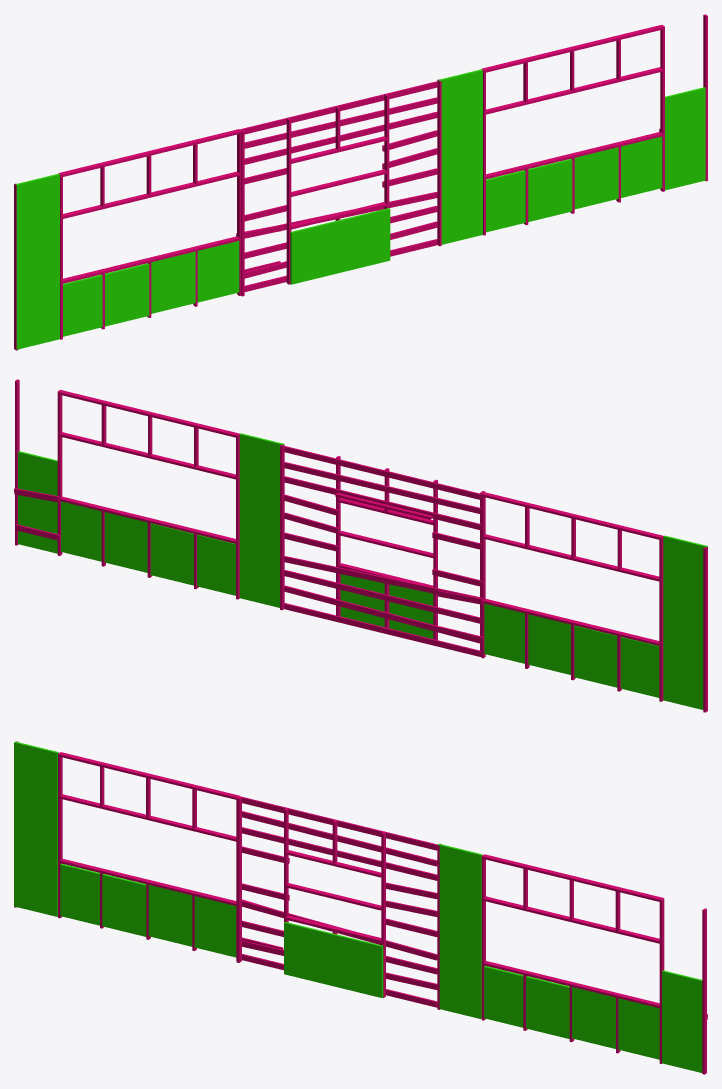
File: BH05B_Wall_06_Break_B.fbx
The picture shows the model from 3 angles, top to bottom: view 1: azimuth 30°, elevation 25°; view 2: azimuth 150°, elevation 25°; view 3: azimuth 330°, elevation 25°; orthographic projection.
Parts seen in each view (by area): view 1: BH05B_Wall_06_Break_B; view 2: BH05B_Wall_06_Break_B; view 3: BH05B_Wall_06_Break_B.
Part boxes in pixels (x1,y1,x2,y2): BH05B_Wall_06_Break_B: (14,14,707,350); BH05B_Wall_06_Break_B: (14,379,707,712); BH05B_Wall_06_Break_B: (14,741,707,1074).
Bounding box in the file's own units: 1320 × 301 × 23.02.
